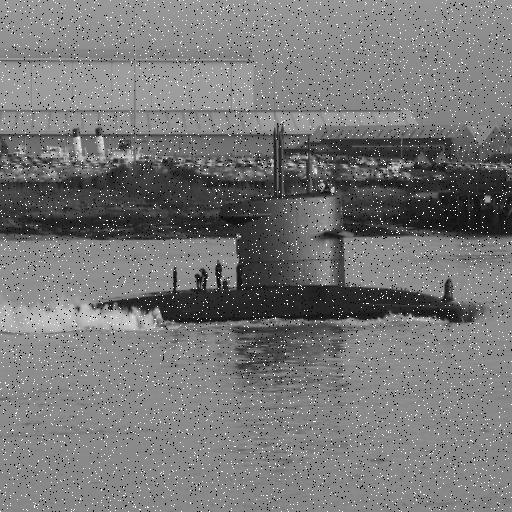submarine: (15, 124, 484, 325)
